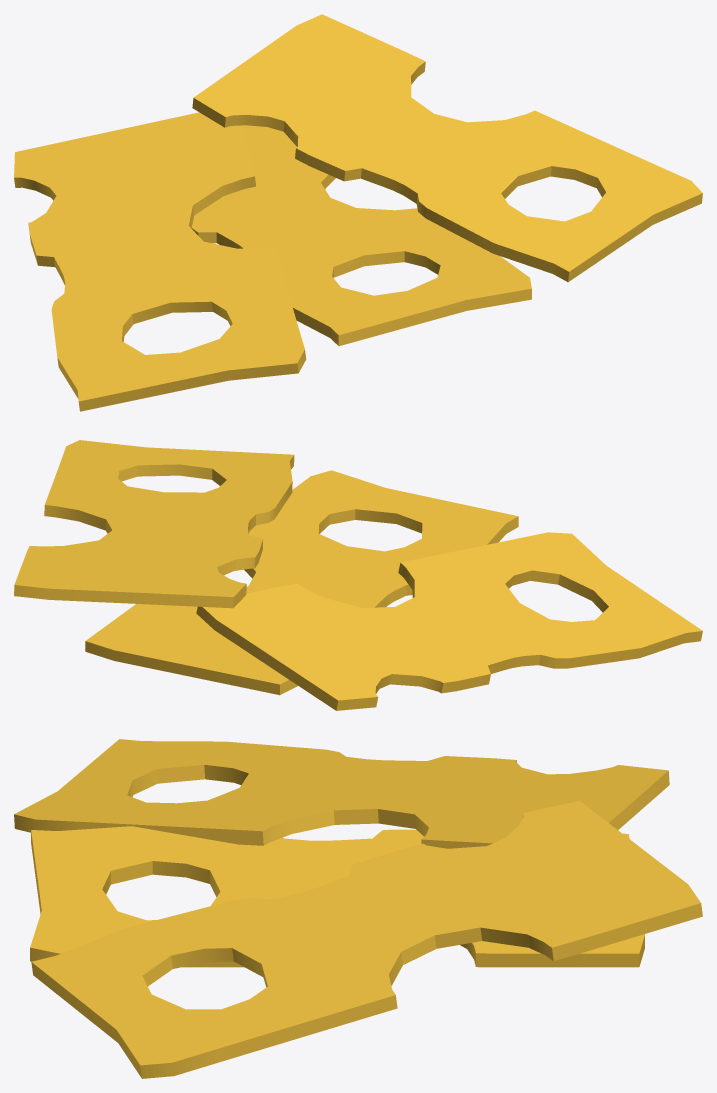
The model's file is CheeseSlices_Visual.glb.
The picture shows the model from 3 angles, top to bottom: view 1: azimuth 30°, elevation 25°; view 2: azimuth 150°, elevation 25°; view 3: azimuth 270°, elevation 25°; orthographic projection. The views are drawn at different scales.
Parts seen in each view (by area): view 1: Cheese slice (1), Cheese slice (2), Cheese slice; view 2: Cheese slice (1), Cheese slice (2), Cheese slice; view 3: Cheese slice (2), Cheese slice (1), Cheese slice.
Boxes of the visible parts, bbox=[...] form: Cheese slice (1): bbox=[14, 112, 306, 411]; Cheese slice (2): bbox=[192, 14, 702, 282]; Cheese slice: bbox=[191, 125, 531, 345]; Cheese slice (1): bbox=[196, 532, 702, 710]; Cheese slice (2): bbox=[14, 440, 294, 608]; Cheese slice: bbox=[85, 470, 518, 695]; Cheese slice (2): bbox=[31, 801, 702, 1078]; Cheese slice (1): bbox=[14, 739, 669, 848]; Cheese slice: bbox=[30, 826, 644, 967].
Bounding box in the file's own units: 0.8255 × 0.1394 × 0.6208.
Materials: 1 (1 with a texture image).
